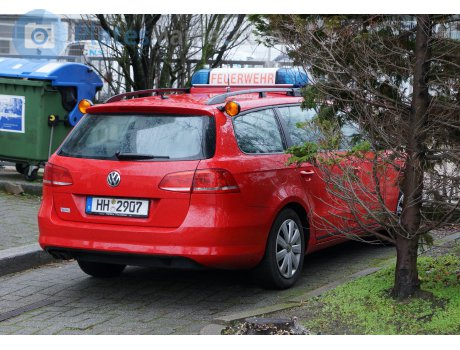License Plates: (95, 196, 150, 224)
